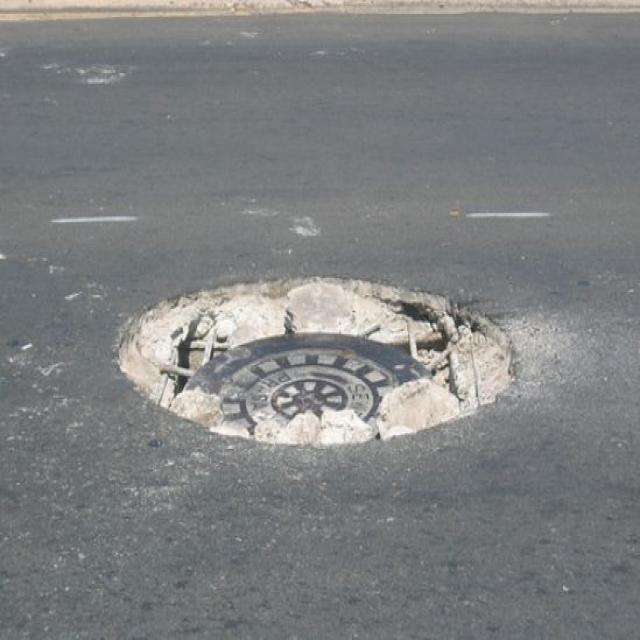pothole: (108, 267, 524, 452)
